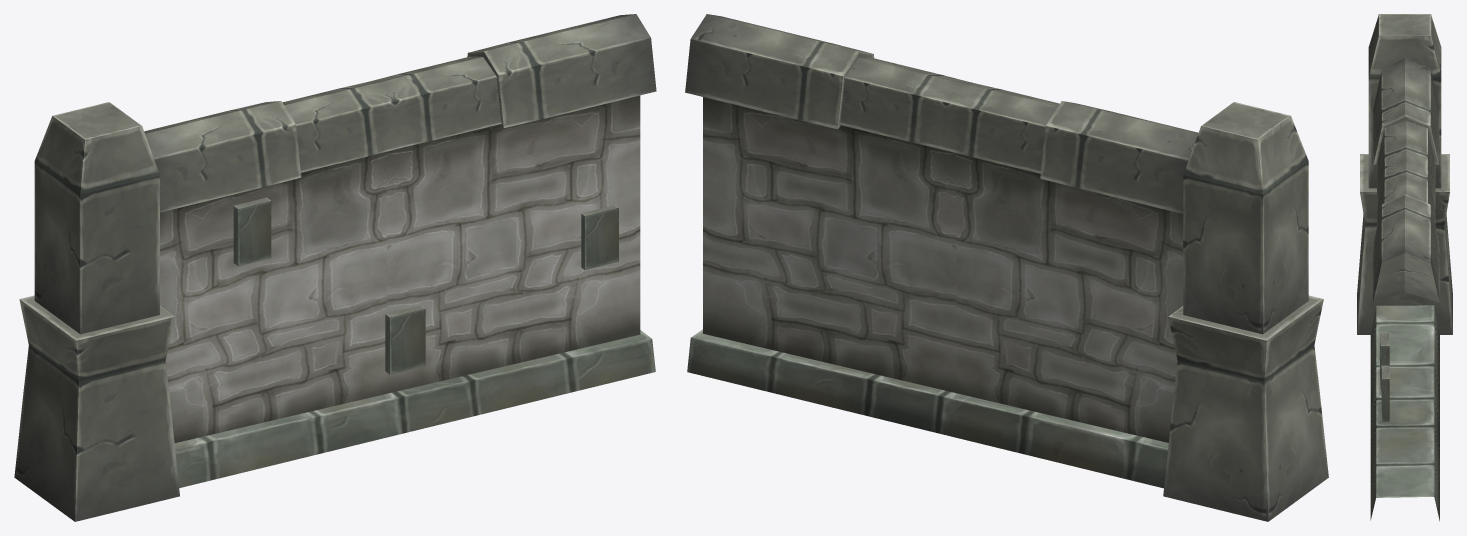
Rendered from wall_02a_tile.fbx.
The picture shows the model from 3 angles, left to right: view 1: azimuth 30°, elevation 25°; view 2: azimuth 150°, elevation 25°; view 3: azimuth 270°, elevation 25°; orthographic projection. The views are drawn at different scales.
Parts seen in each view (by area): view 1: wall_02a_tile:Mesh; view 2: wall_02a_tile:Mesh; view 3: wall_02a_tile:Mesh.
Boxes of the visible parts, left/top/right/bottom form: wall_02a_tile:Mesh: left=14, top=14, right=656, bottom=521; wall_02a_tile:Mesh: left=685, top=14, right=1328, bottom=521; wall_02a_tile:Mesh: left=1357, top=14, right=1452, bottom=521.
Size of the model in its own units: 4.75 by 2.81 by 0.8432.
